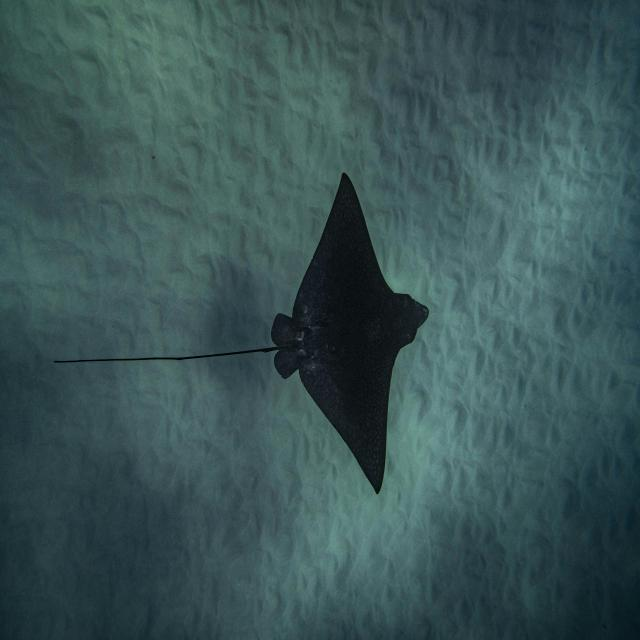stingray: (53, 173, 429, 494)
